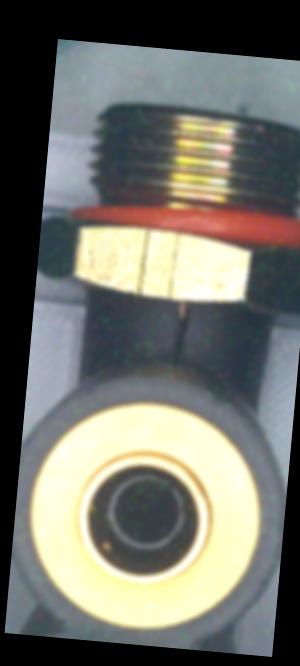craze: (162, 299, 197, 363)
